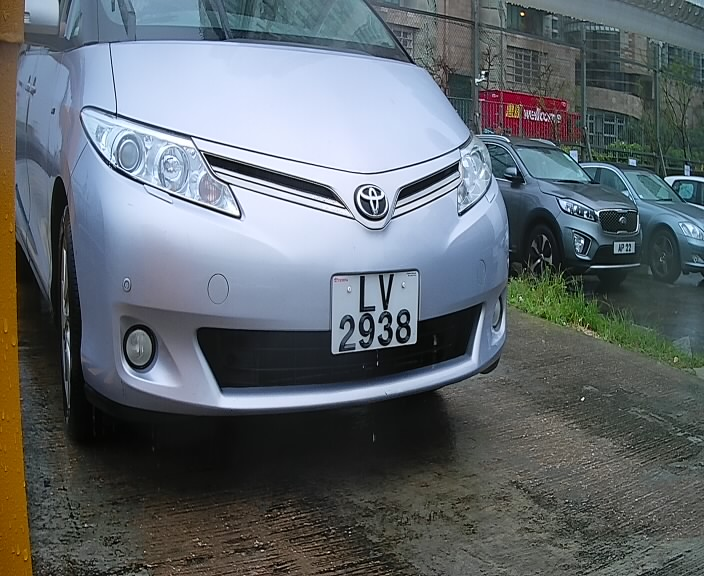License Plate: (324, 261, 434, 367)
